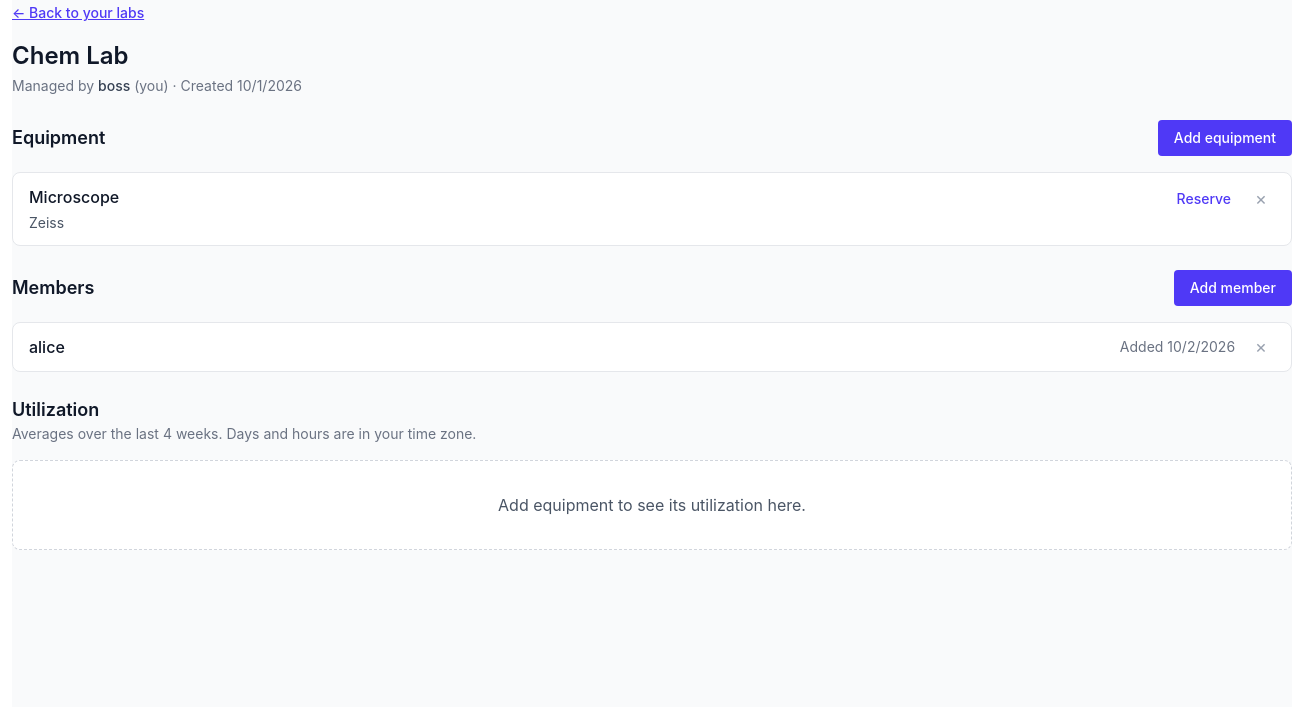
equipment › shows a generic error when adding equipment fails
Expected: the text "Microscope" is shown, [29,185,119,209]
Click the button "Add equipment". click: {"x": 1225, "y": 138}
box: [1158,120,1292,156]
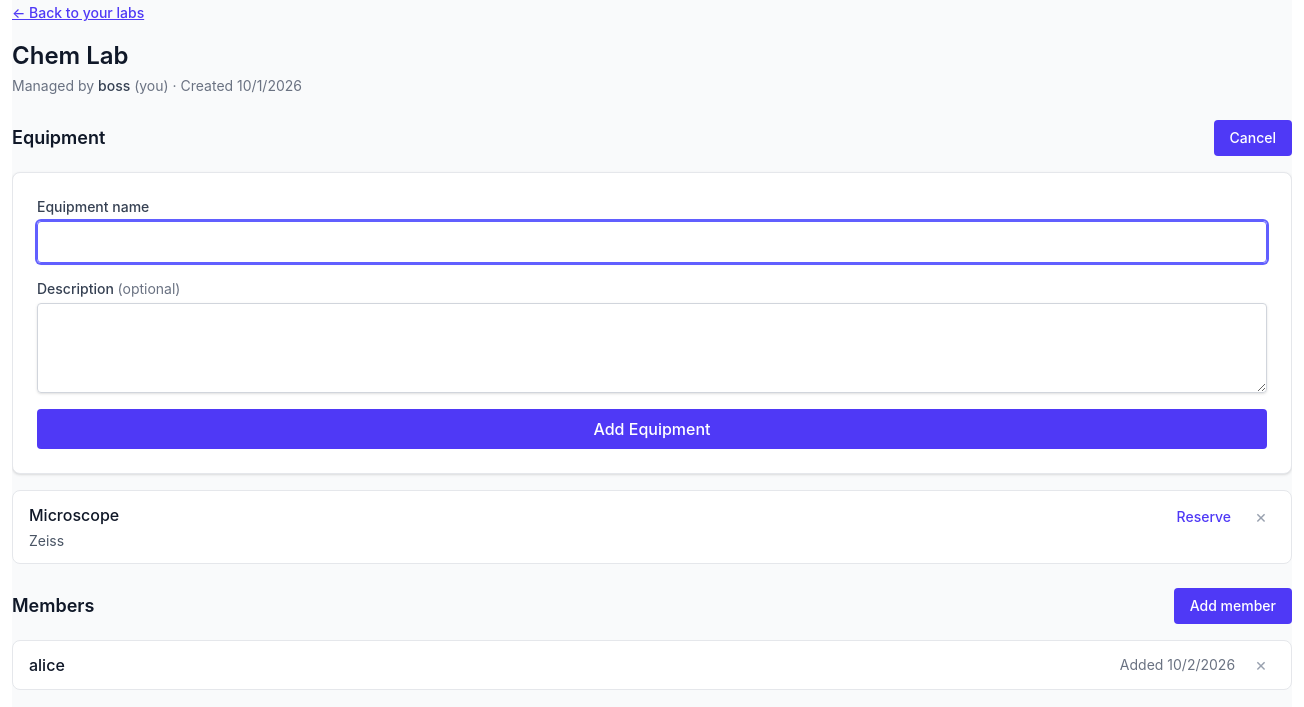
Type "Scope" into the field labelled "Equipment name". click: {"x": 652, "y": 242}
box: [37,221,1267,263]
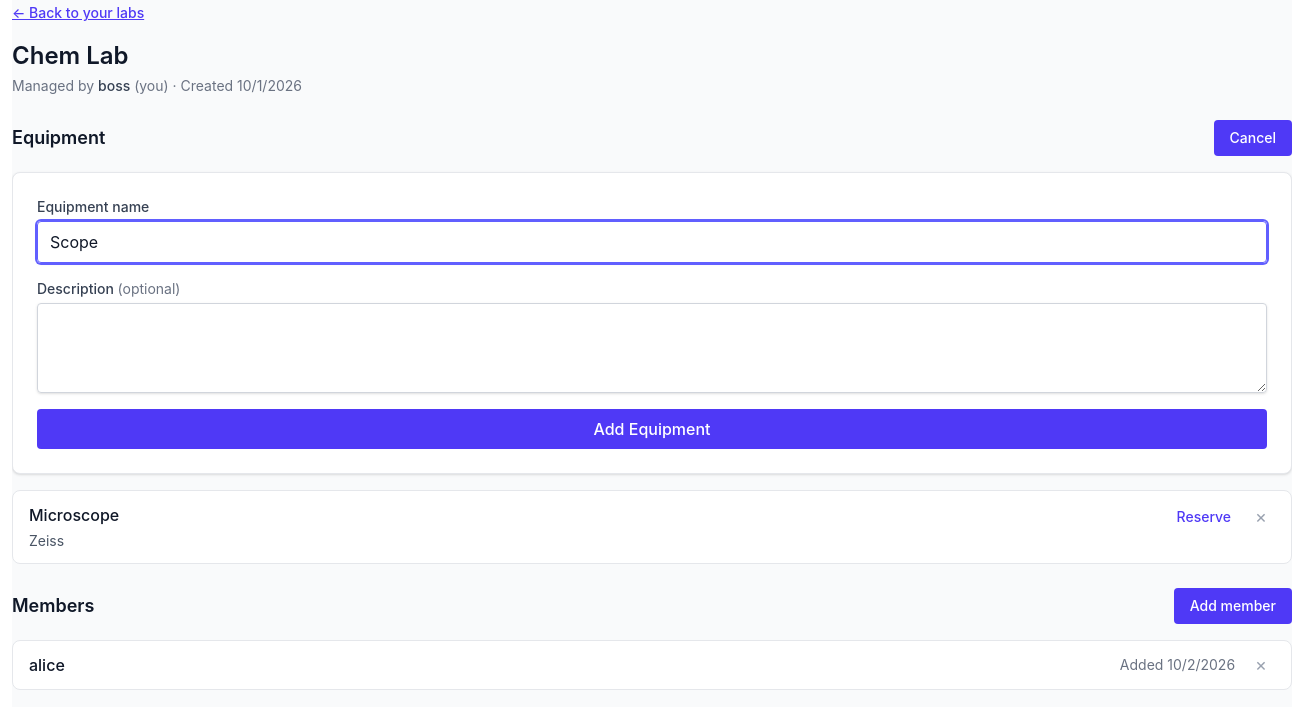
Click the button "Add Equipment". click: {"x": 652, "y": 429}
box: [37,409,1267,449]
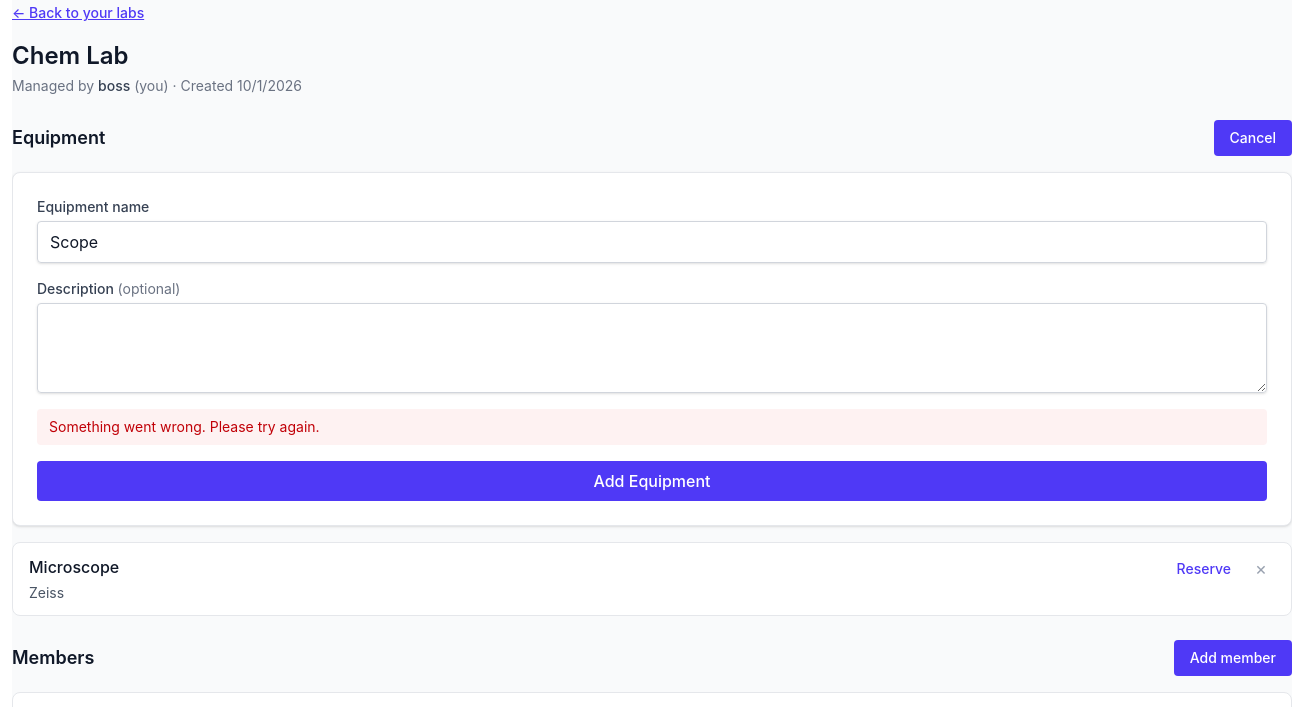
Expected: the message reads "Something went wrong. Please try again.", [49,418,320,435]
